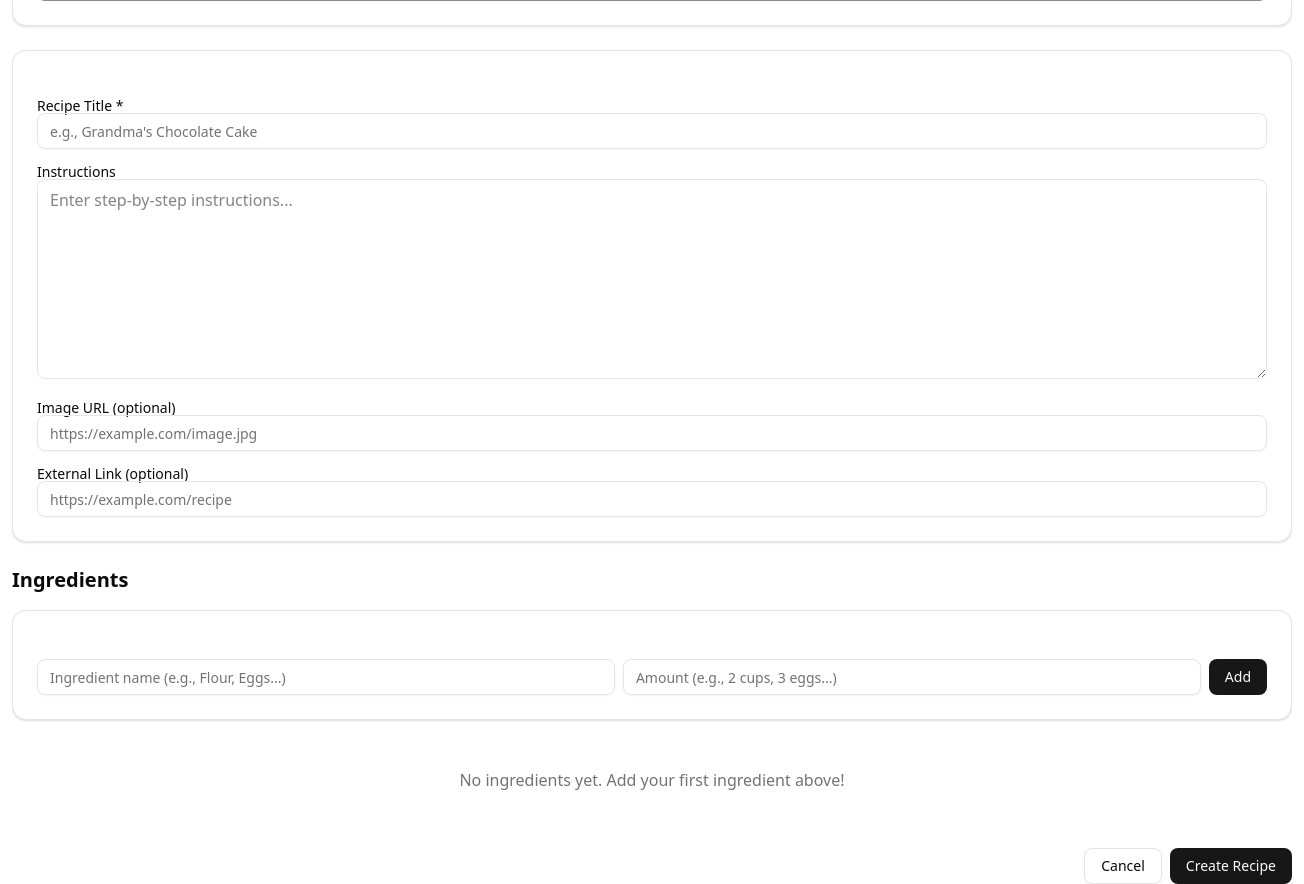
Test: RecipeForm › Create Mode › adds ingredient to recipe
(page scrolled)
Type "Flour" into the field with placeholder "Ingredient name (e.g., Flour, Eggs...)" at {"x": 326, "y": 677}, box 37,659 -> 615,695
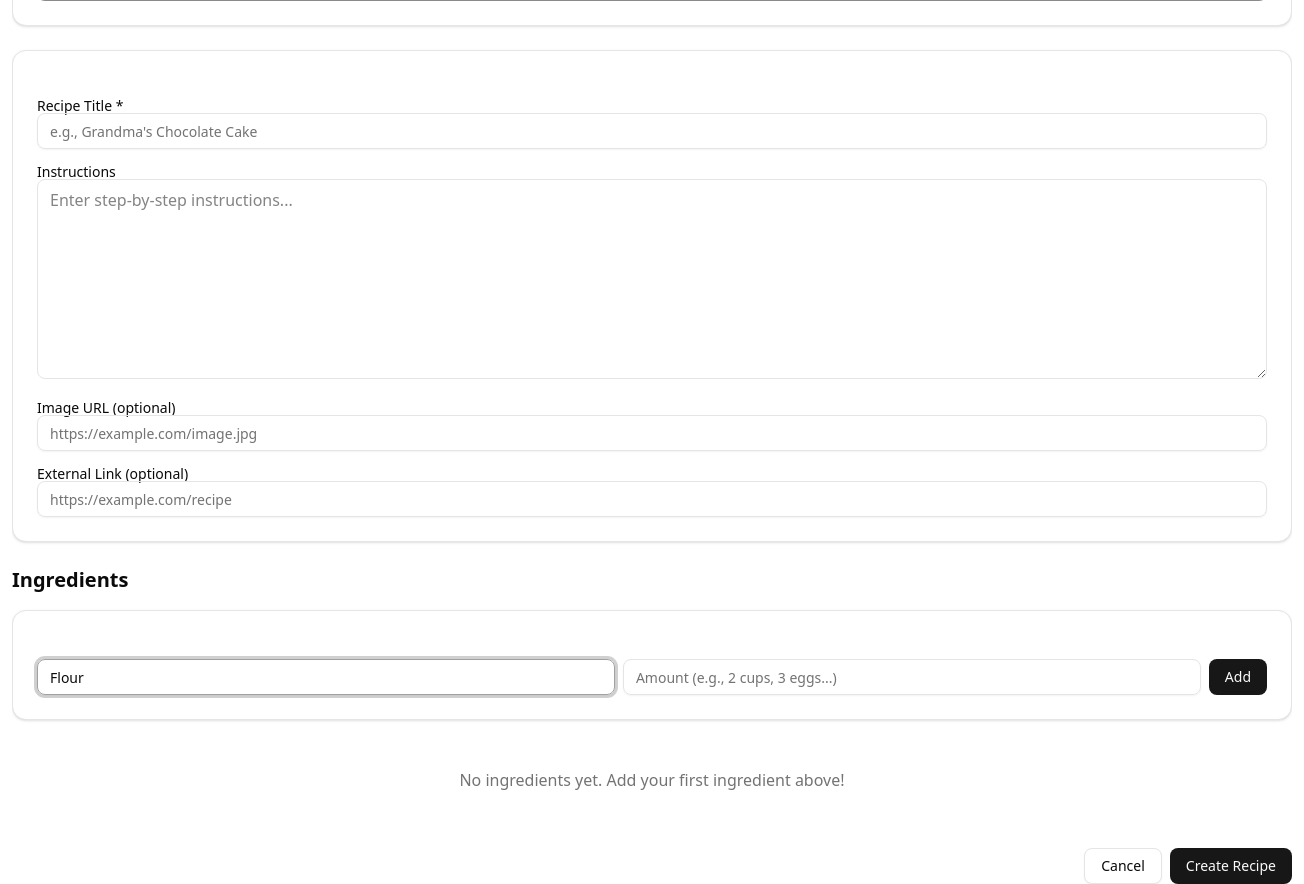
Type "2 cups" into the field with placeholder "Amount (e.g., 2 cups, 3 eggs...)" at {"x": 912, "y": 677}, box 623,659 -> 1201,695
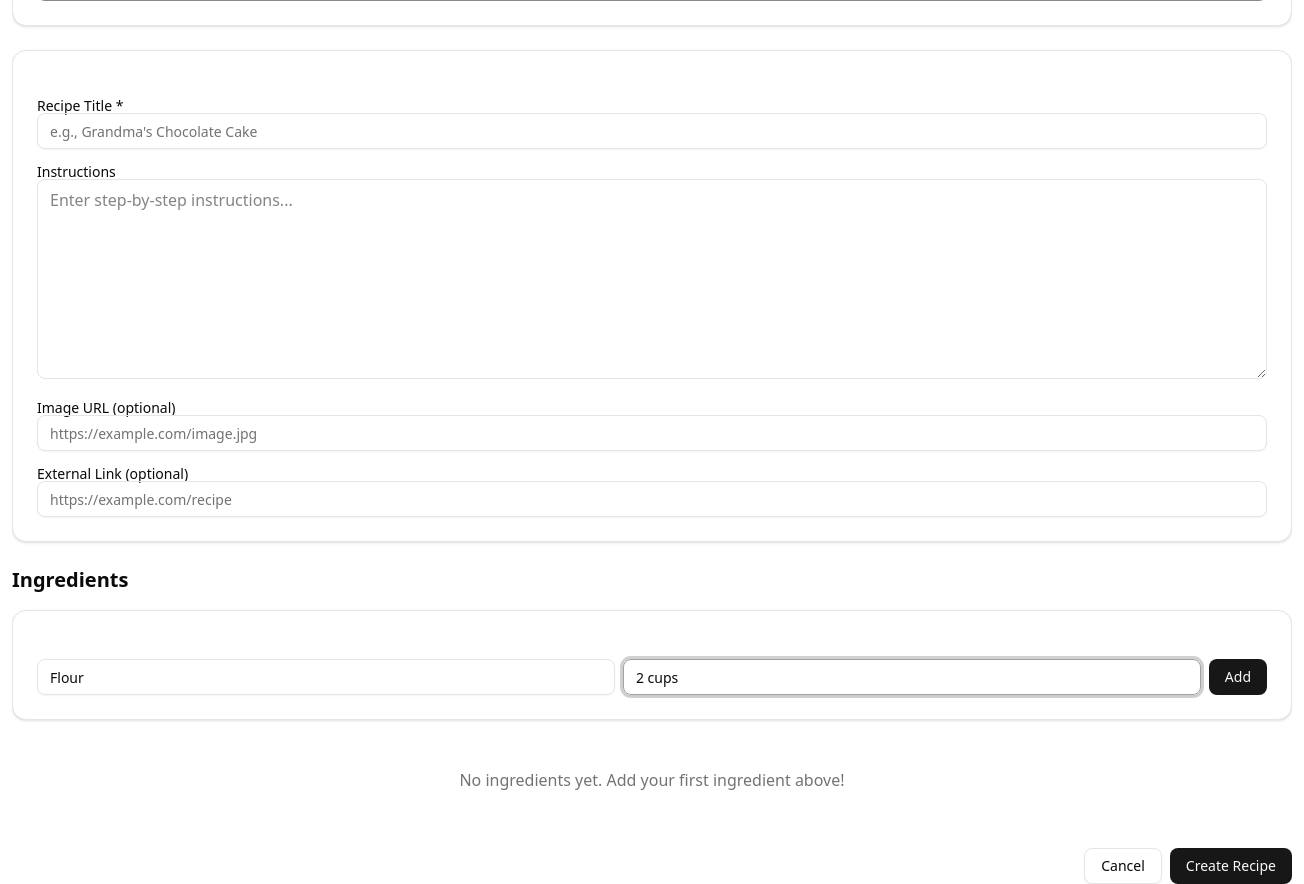
Click the button "Add" at {"x": 1238, "y": 677}, box 1209,659 -> 1267,695
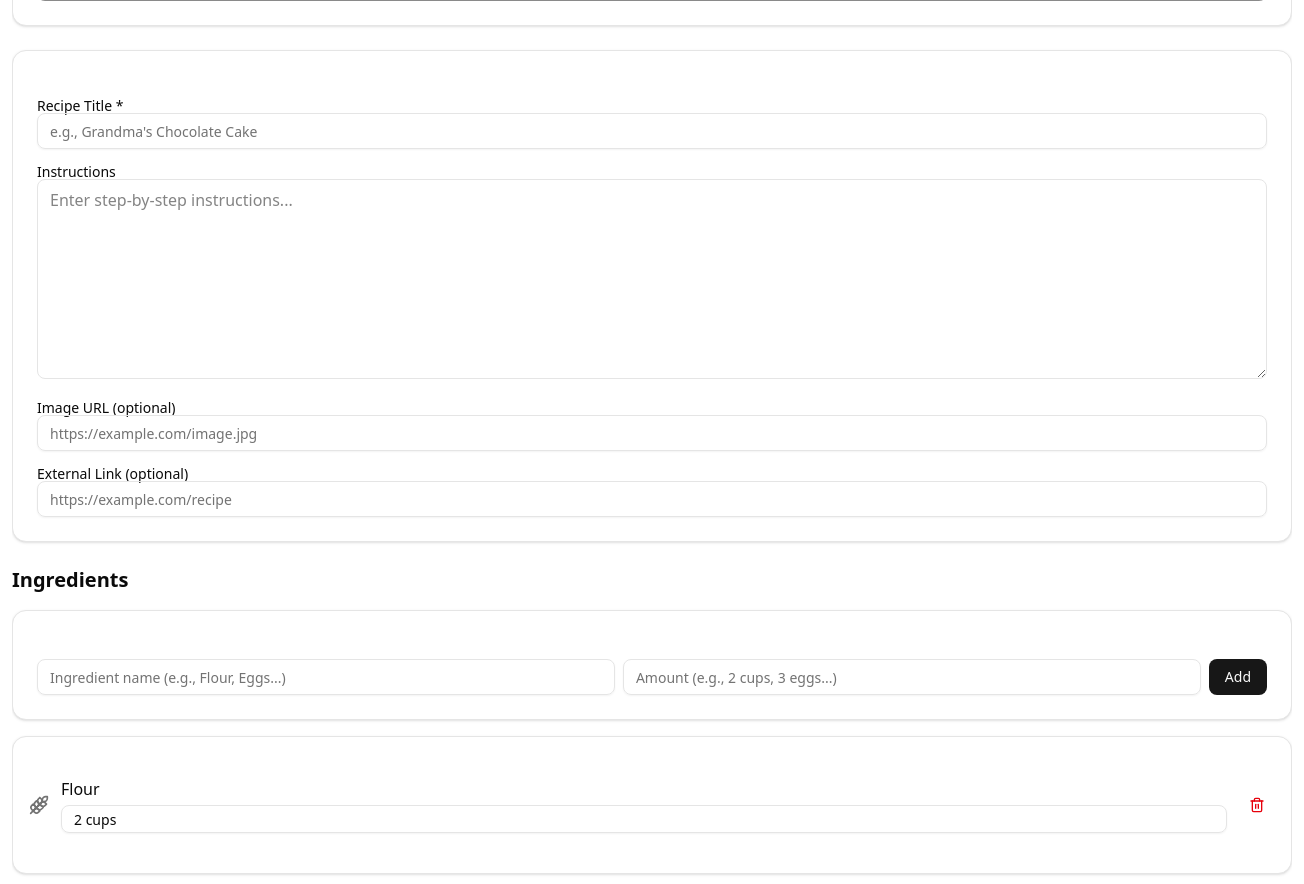
Expected: the text "Flour" is shown, 61,778 -> 100,800
